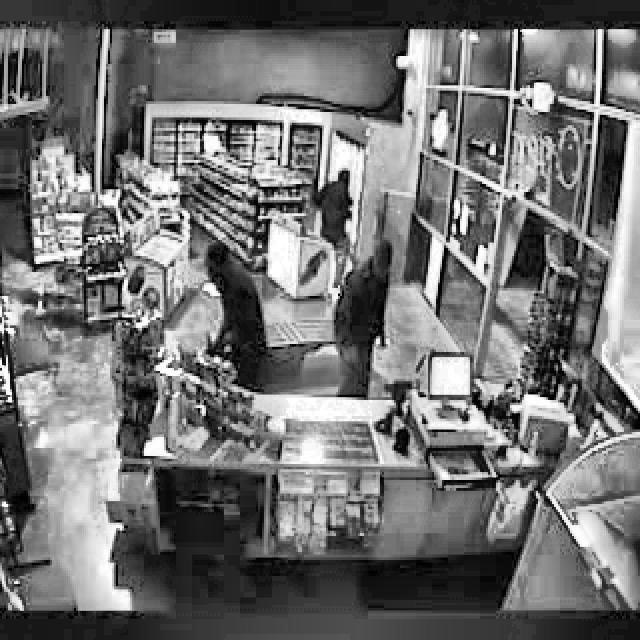burglary: (200, 234, 272, 408), (329, 239, 394, 397), (310, 163, 360, 239)
